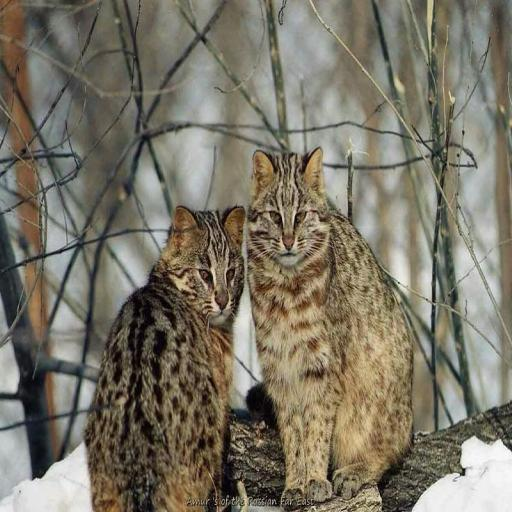cat: (249, 149, 411, 500), (84, 207, 244, 511)
